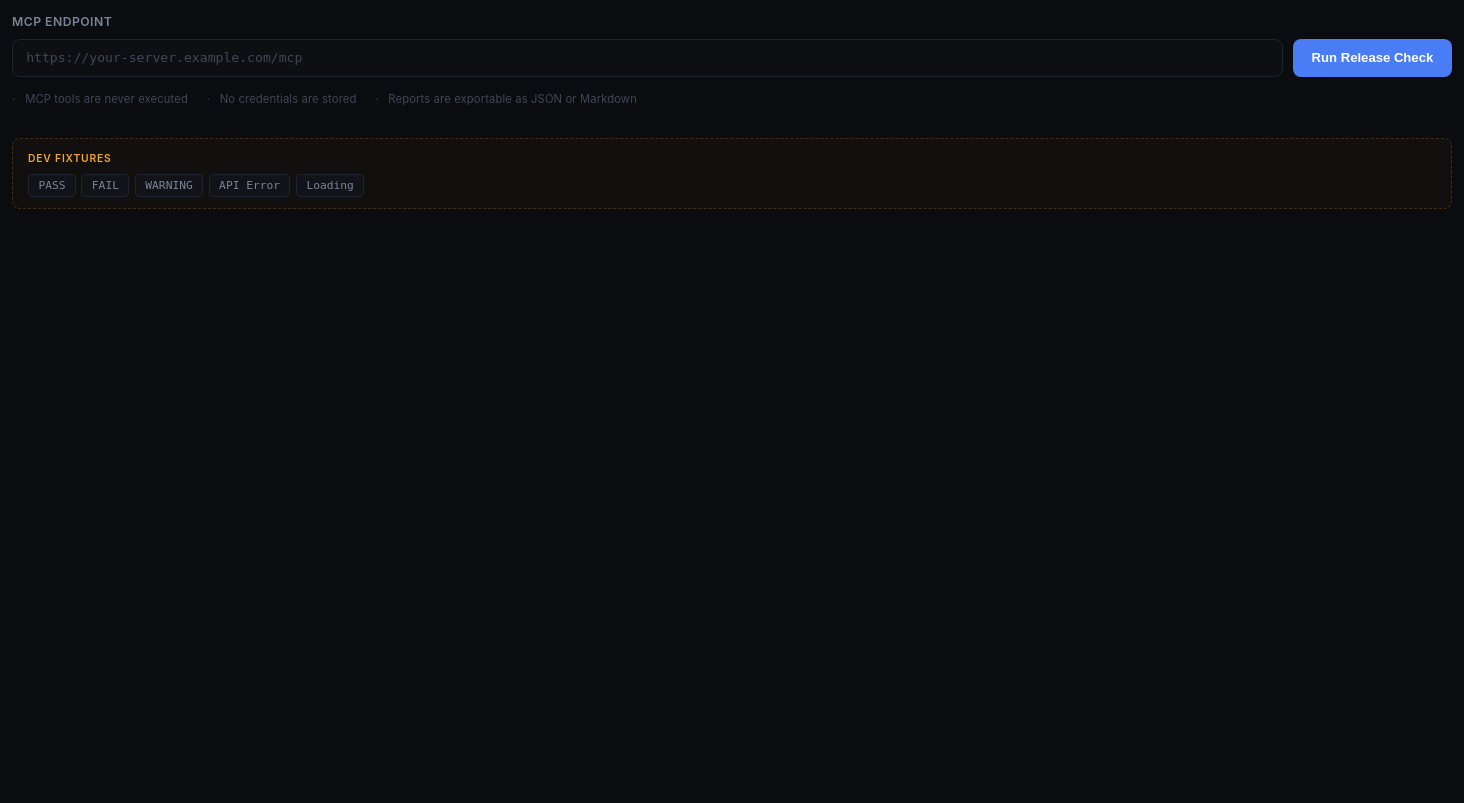
Test case: CheckClient › JSON export button is present and tool findings are rendered
Type "https://example.com/mcp" into the field labelled "MCP Endpoint".
click(648, 58); type("https://example.com/mcp")  # box [12,39,1283,77]
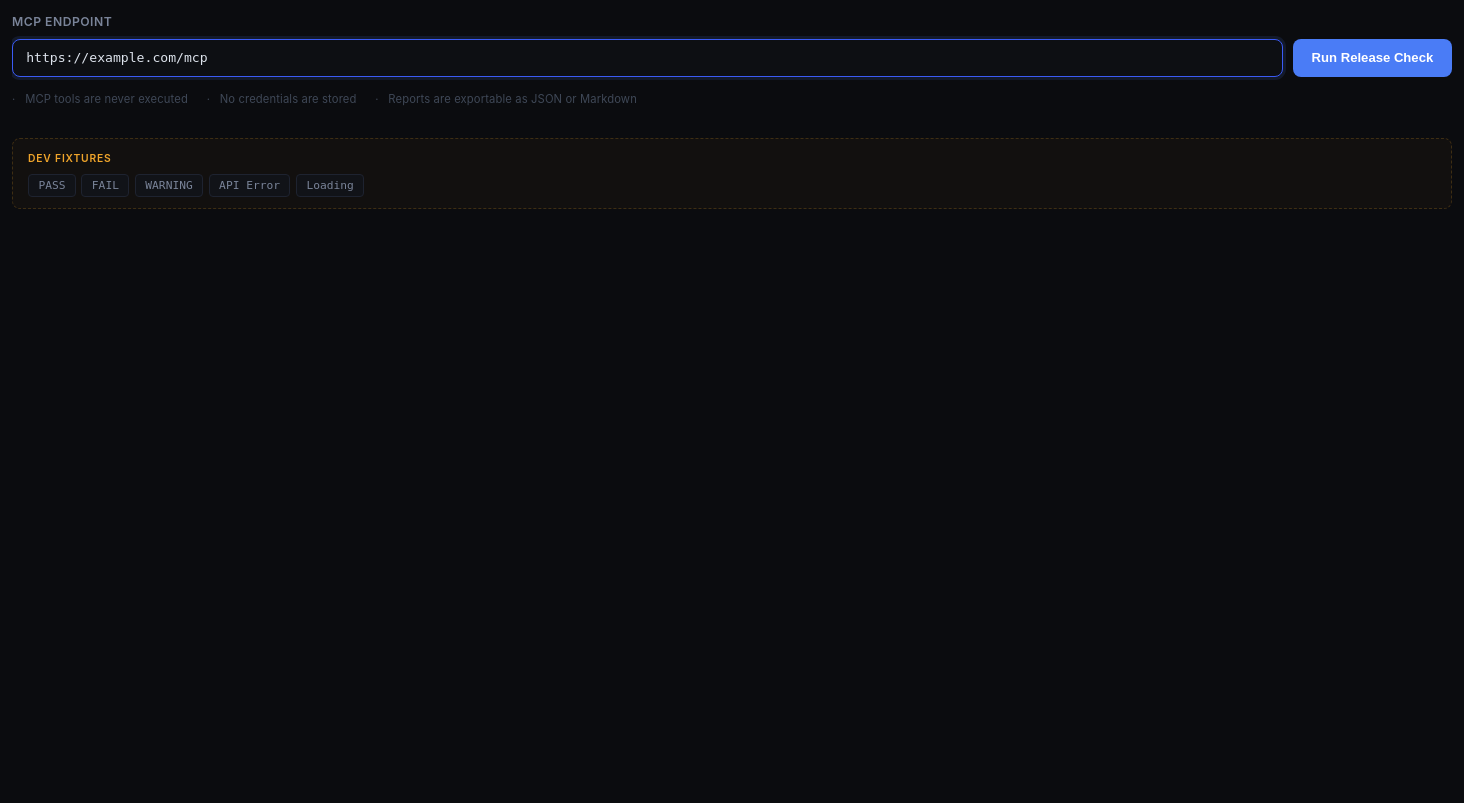
Click the button "Run Release Check".
click(1372, 58)  # box [1293,39,1452,77]
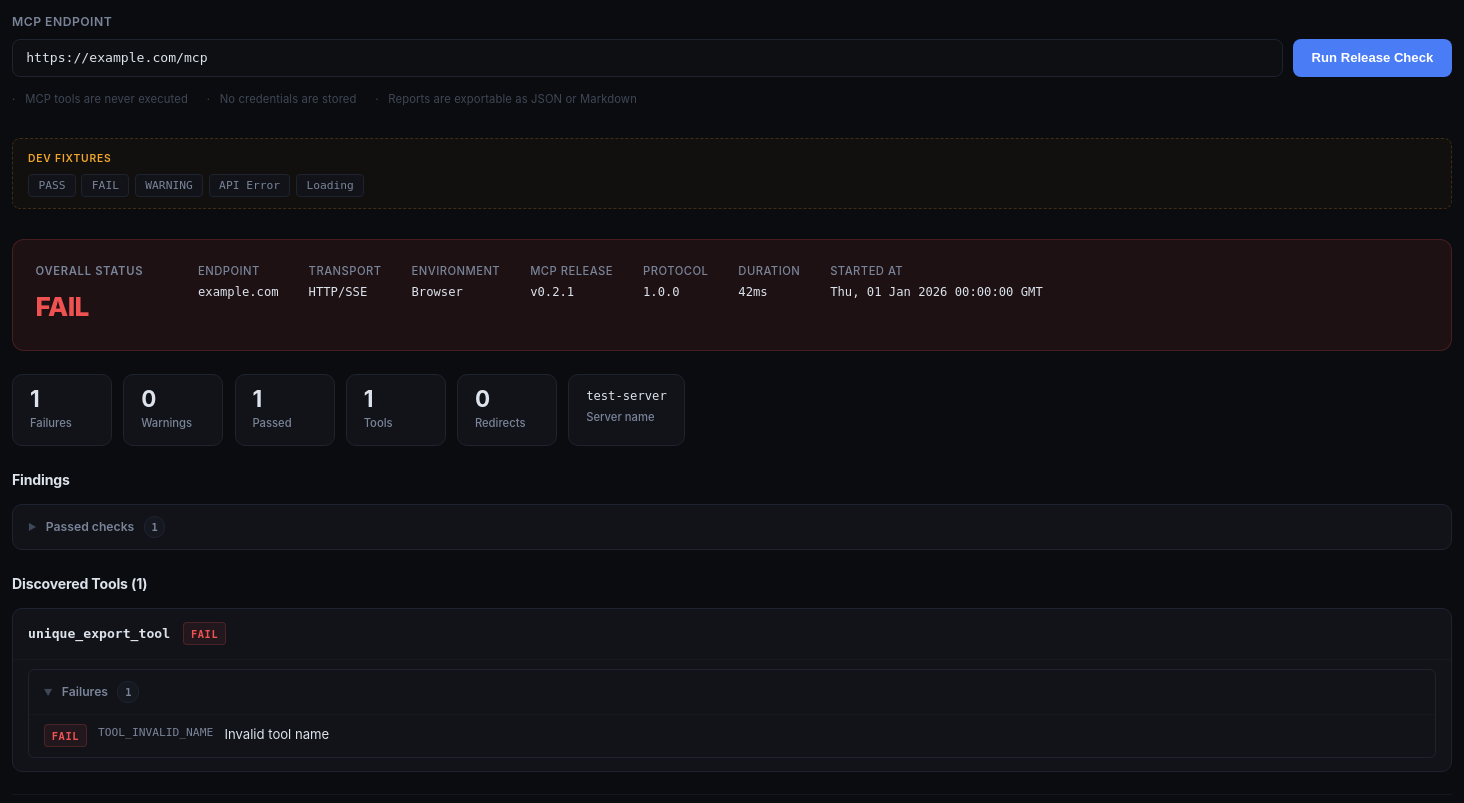
Check: the text "Overall Status" is shown, box [36,264,143,278]
Check: the text "unique_export_tool" is shown, box [28,623,170,644]
